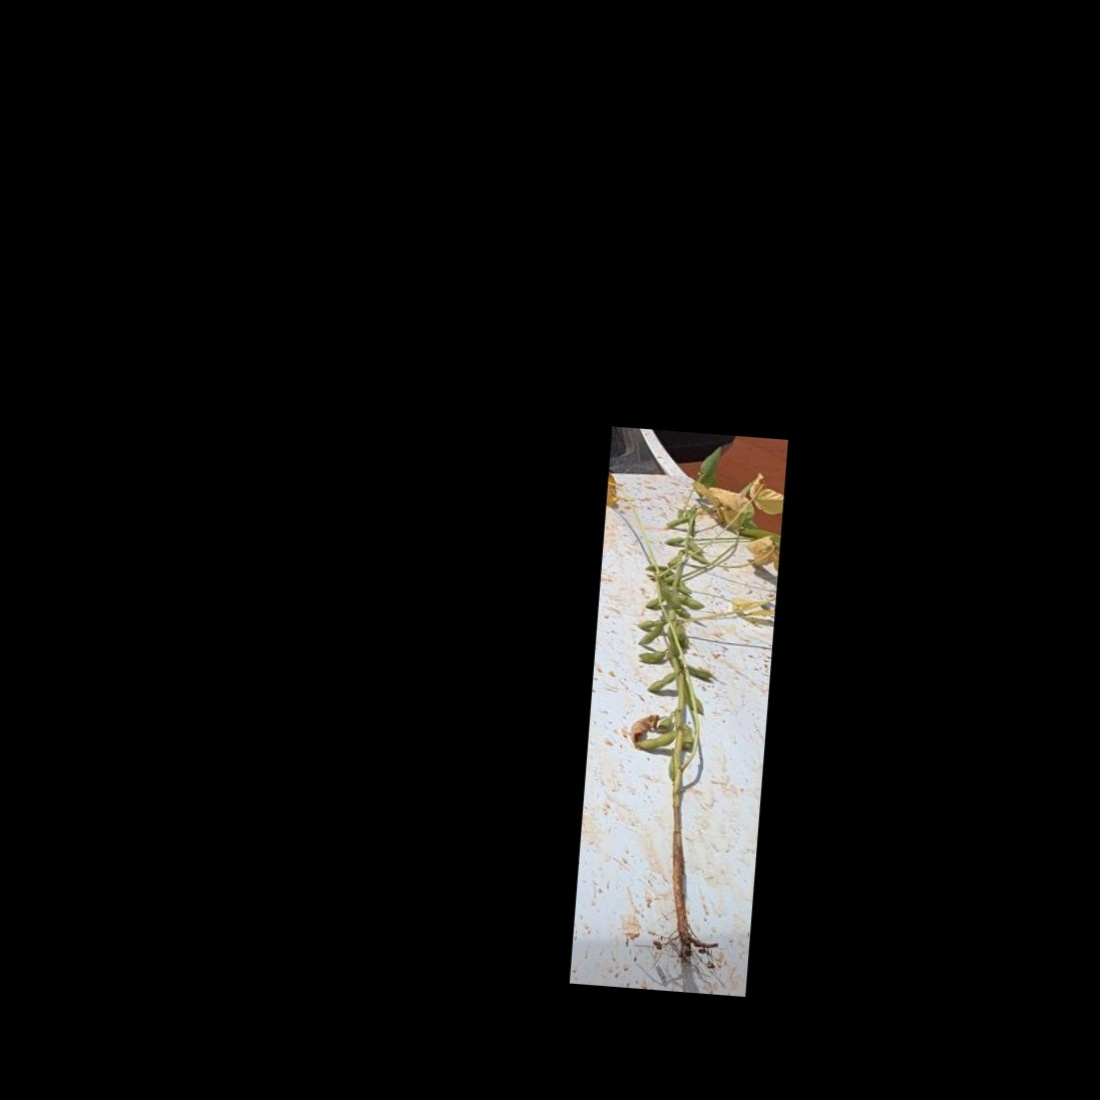pod: (629, 727, 685, 754), (645, 668, 679, 695), (633, 646, 671, 667), (676, 594, 708, 613), (634, 616, 667, 633), (661, 533, 688, 547)
soy: (595, 482, 767, 957)
